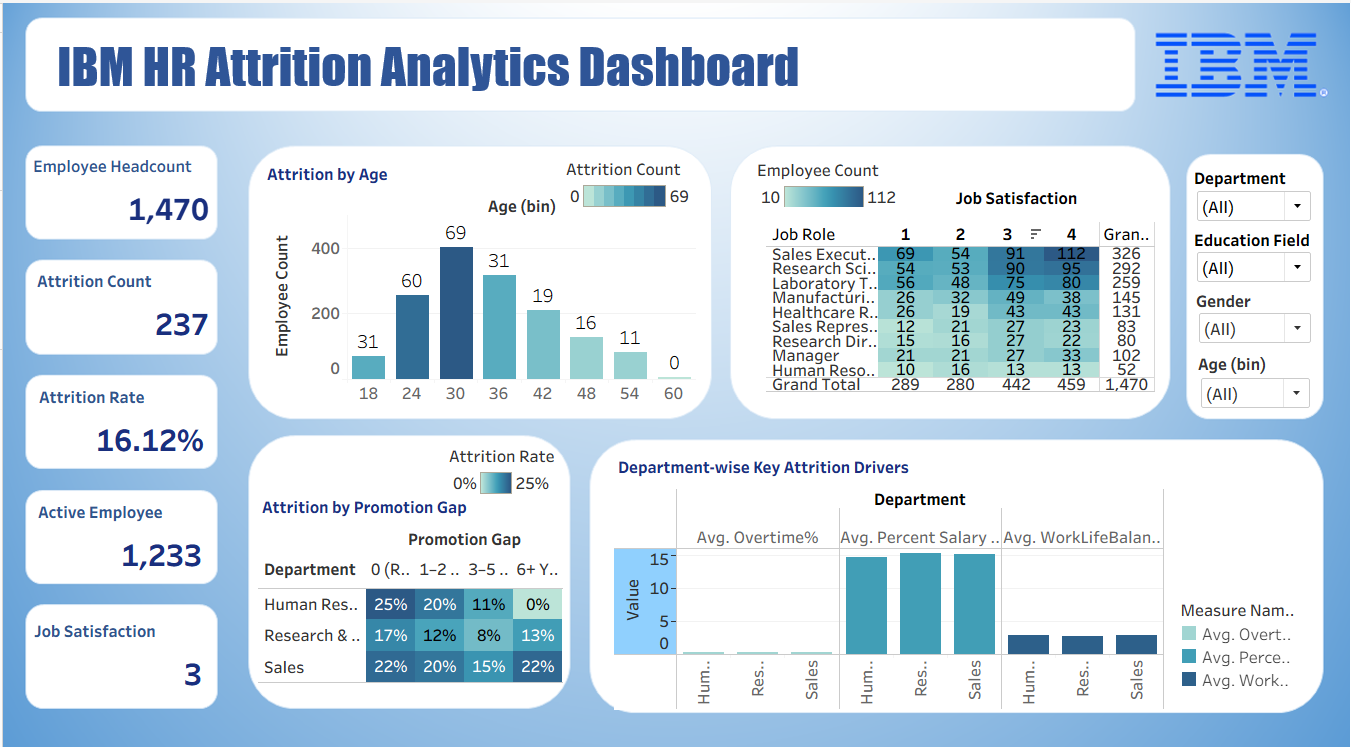

The page's visual inventory and layout, read from the dashboard file:
{"tool":"tableau","page":{"name":"Dashboard 2","canvas":[1000,1000],"units":"permille","ordinal":1},"visuals":[{"type":"image","param":"Image/Screenshot 2026-02-03 143004.png","box":[21.5,25.4,626.7,113.8]},{"type":"worksheet","title":"KPI-Total Employee Count","mark":"Automatic","box":[19.3,198.1,136.3,109.8]},{"type":"legend","title":"Attrition Count by Age Group","param":"[federated.1w4c5qy0q8kixw11kbcbs1l2wusw].[sum:Calculation_2226270264061952:qk]","box":[417,207.5,94.8,69.6]},{"type":"worksheet","title":"Attrition Count by Age Group","mark":"Automatic","rows":["EmployeeCount"],"cols":["Age (bin)"],"box":[192.6,208.8,320.7,329.3]},{"type":"legend","title":"Job Satisfaction Rating","param":"[federated.1w4c5qy0q8kixw11kbcbs1l2wusw].[sum:EmployeeCount:qk]","box":[558.5,208.8,106.7,64.3]},{"type":"filter","title":"KPI- Average Job Satisfation","param":"[federated.1w4c5qy0q8kixw11kbcbs1l2wusw].[none:Department:nk]","box":[882.2,219.5,88.9,73.6]},{"type":"worksheet","title":"Job Satisfaction Rating","mark":"Square","rows":["JobRole"],"cols":["JobSatisfaction"],"box":[565.2,228.9,288.2,291.8]},{"type":"filter","title":"KPI-Total Employee Count","param":"[federated.1w4c5qy0q8kixw11kbcbs1l2wusw].[none:EducationField:nk]","box":[882.2,302.5,88.9,71]},{"type":"worksheet","title":"KPI-Attrition Count","mark":"Automatic","box":[22.2,352.1,133.3,105.8]},{"type":"filter","title":"KPI-Active Employees","param":"[federated.1w4c5qy0q8kixw11kbcbs1l2wusw].[none:Gender:nk]","box":[883.7,384.2,87.4,72.3]},{"type":"filter","title":"Attrition by Promotion Gap","param":"[federated.1w4c5qy0q8kixw11kbcbs1l2wusw].[none:Age (bin):ok]","box":[885.2,468.5,85.2,77.6]},{"type":"worksheet","title":"KPI-Attrition Rate","mark":"Automatic","box":[23.7,507.4,128.2,104.4]},{"type":"legend","title":"Attrition by Promotion Gap","param":"[federated.1w4c5qy0q8kixw11kbcbs1l2wusw].[usr:Calculation_2226270265544705:qk]","box":[330.4,591.7,77.8,65.6]},{"type":"worksheet","title":"Attrition Drivers","mark":"Automatic","cols":["Department"],"box":[452.6,601.1,408.2,346.7]},{"type":"worksheet","title":"Attrition by Promotion Gap","mark":"Square","rows":["Department"],"cols":["Calculation_2226270330957829"],"box":[188.9,654.6,225.9,255.7]},{"type":"worksheet","title":"KPI-Active Employees","mark":"Automatic","box":[23,661.3,127.4,107.1]},{"type":"legend","title":"Attrition Drivers","param":"[federated.1w4c5qy0q8kixw11kbcbs1l2wusw].[:Measure Names]","box":[870.4,797.9,88.2,137.9]},{"type":"worksheet","title":"KPI- Average Job Satisfation","mark":"Automatic","box":[20,820.6,130.4,109.8]}]}

Visuals, with their boxes on the dashboard's canvas, which has no fixed pixel size, in thousandths of its width and height (x1, y1, x2, y2). These are canvas units, not pixel positions in the 1351x747 screenshot, which may show the page scaled, cropped or inside an application window:
image: (x1=22, y1=25, x2=648, y2=139)
"KPI-Total Employee Count" worksheet: (x1=19, y1=198, x2=156, y2=308)
"Attrition Count by Age Group" legend: (x1=417, y1=208, x2=512, y2=277)
"Attrition Count by Age Group" worksheet: (x1=193, y1=209, x2=513, y2=538)
"Job Satisfaction Rating" legend: (x1=558, y1=209, x2=665, y2=273)
"KPI- Average Job Satisfation" filter: (x1=882, y1=220, x2=971, y2=293)
"Job Satisfaction Rating" worksheet (Square marks): (x1=565, y1=229, x2=853, y2=521)
"KPI-Total Employee Count" filter: (x1=882, y1=302, x2=971, y2=374)
"KPI-Attrition Count" worksheet: (x1=22, y1=352, x2=156, y2=458)
"KPI-Active Employees" filter: (x1=884, y1=384, x2=971, y2=456)
"Attrition by Promotion Gap" filter: (x1=885, y1=468, x2=970, y2=546)
"KPI-Attrition Rate" worksheet: (x1=24, y1=507, x2=152, y2=612)
"Attrition by Promotion Gap" legend: (x1=330, y1=592, x2=408, y2=657)
"Attrition Drivers" worksheet: (x1=453, y1=601, x2=861, y2=948)
"Attrition by Promotion Gap" worksheet (Square marks): (x1=189, y1=655, x2=415, y2=910)
"KPI-Active Employees" worksheet: (x1=23, y1=661, x2=150, y2=768)
"Attrition Drivers" legend: (x1=870, y1=798, x2=959, y2=936)
"KPI- Average Job Satisfation" worksheet: (x1=20, y1=821, x2=150, y2=930)
